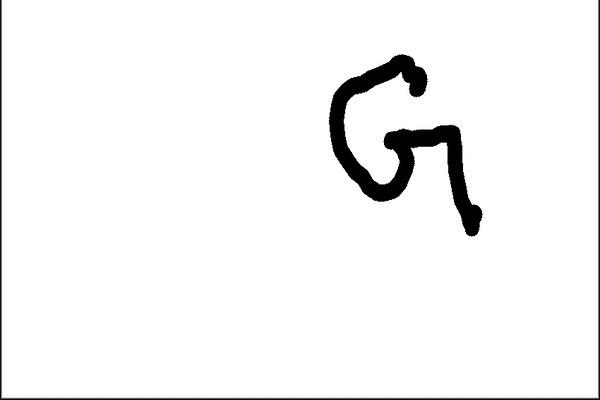G: (323, 48, 482, 258)
